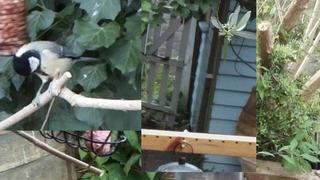great tit: (12, 40, 101, 108)
